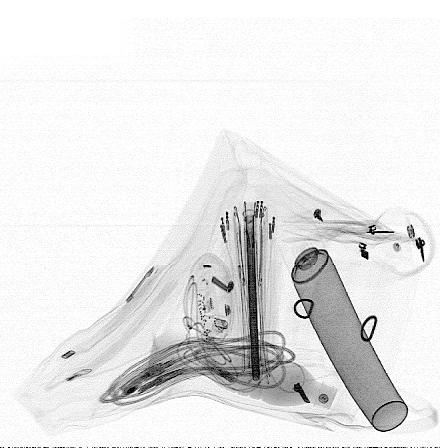Sprayer: (276, 213, 410, 434)
